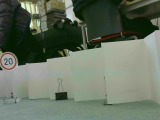speed_20: (1, 52, 19, 71)
